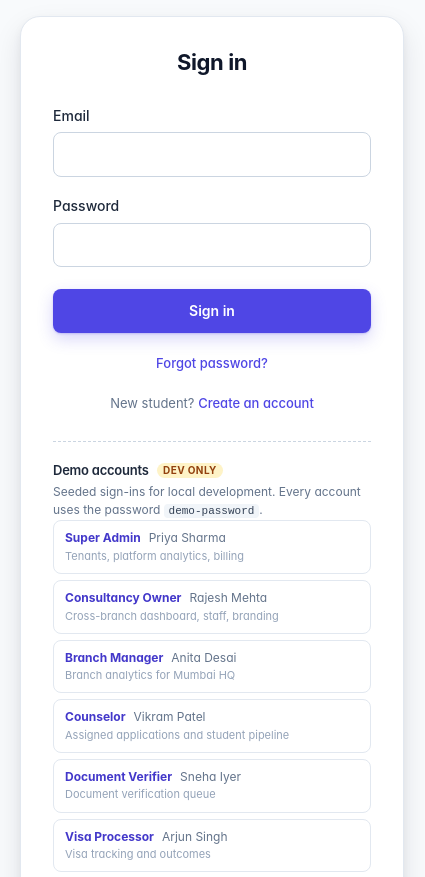
Test: LoginPage › shows a fallback error when validation detail is not a string
The width and height of the screenshot is (425, 877).
Check: the heading "Sign in" is shown, box [177,49,247,75]
Type "counselor@demo.test" into the field with test id "login-email" at x=212, y=155, box [53,132,371,177]
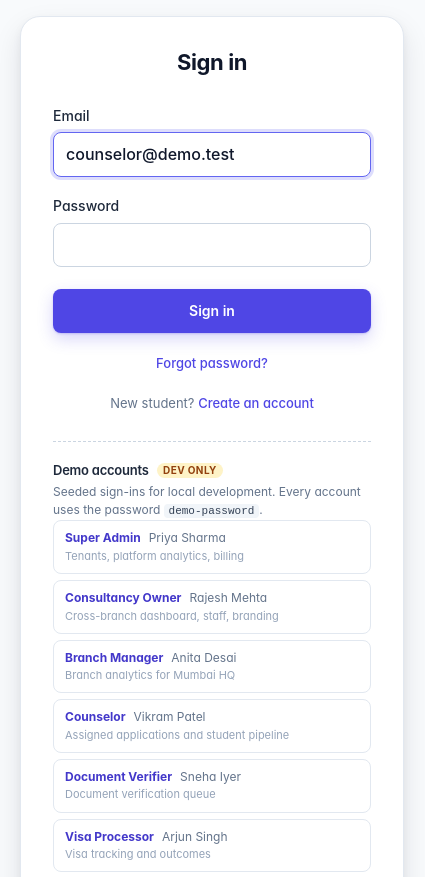
Type "demo-password" into the password field with test id "login-password" at x=212, y=245, box [53,223,371,268]
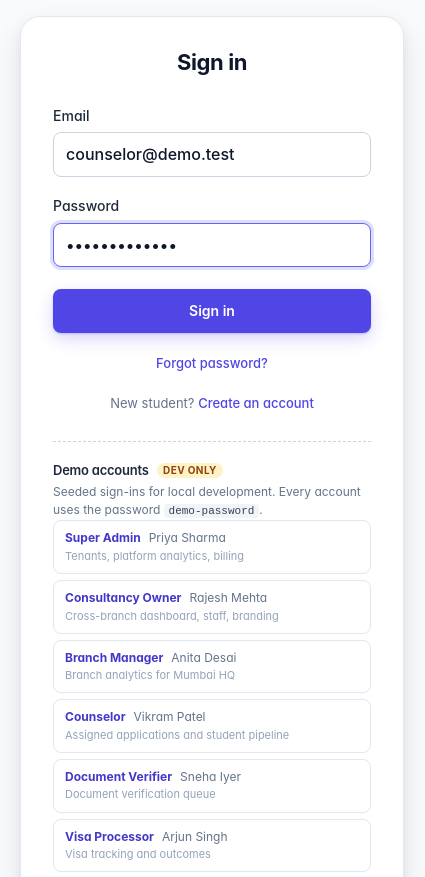
Click the button with test id "login-submit" at x=212, y=311, box [53,290,371,333]
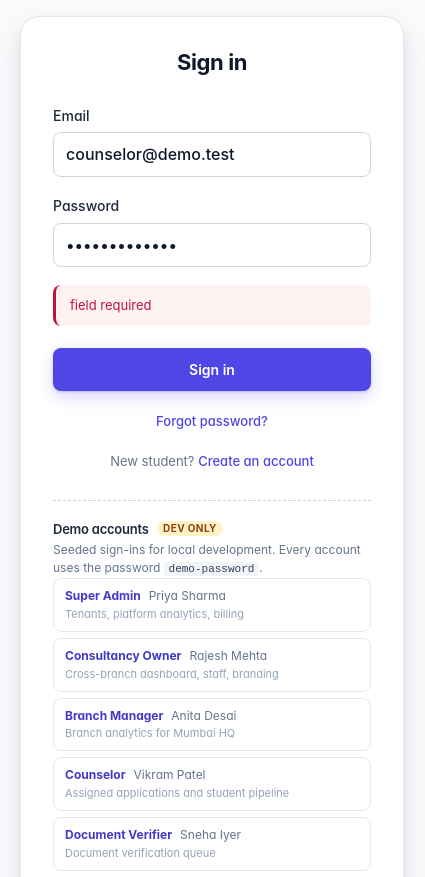
Check: the heading "Sign in" is shown, box [177,49,247,75]
Check: the message "field required" is shown, box [53,286,371,326]
Check: the message with test id "login-error" reads "field required", box [70,298,152,314]
